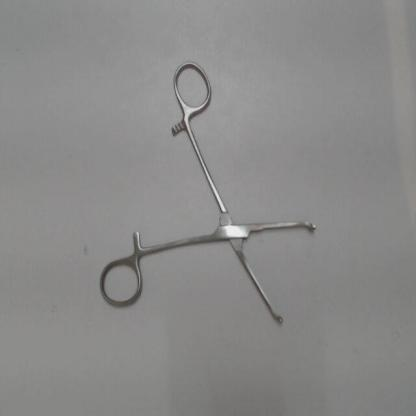Allis Tissue Forceps: (92, 54, 326, 338)
